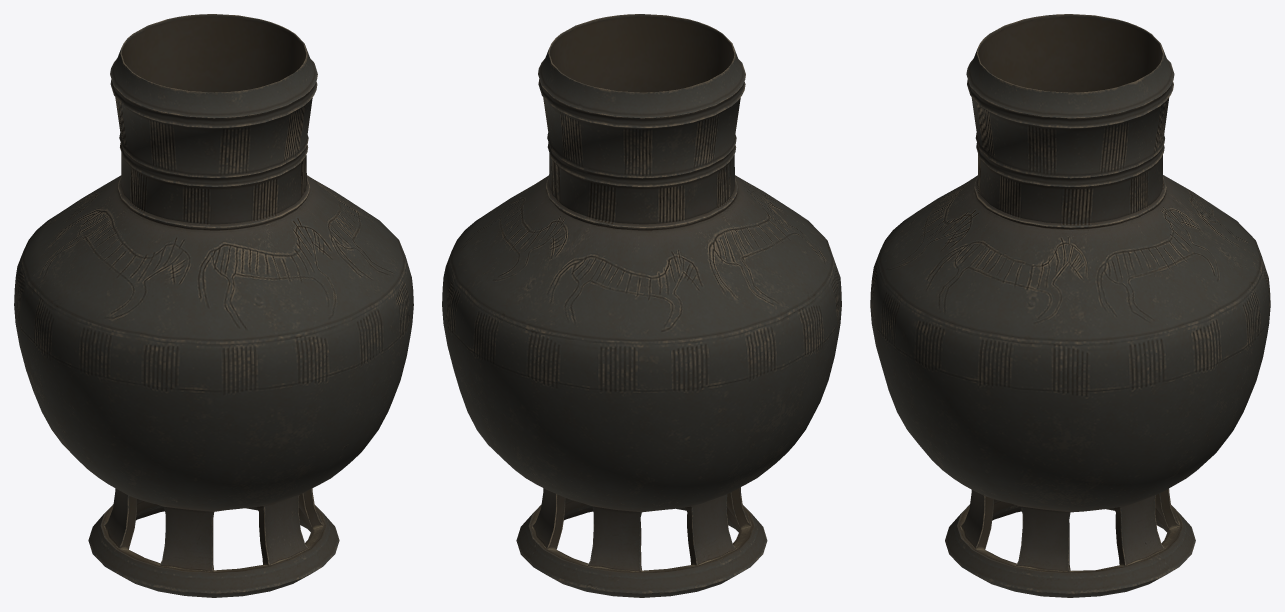
Rendered from Hor_07_3D_02_Pub.glb.
The picture shows the model from 3 angles, left to right: view 1: azimuth 30°, elevation 25°; view 2: azimuth 150°, elevation 25°; view 3: azimuth 270°, elevation 25°; orthographic projection.
Visible parts, largest first — view 1: SM_24FO0012_low_Material #25_0; view 2: SM_24FO0012_low_Material #25_0; view 3: SM_24FO0012_low_Material #25_0.
Boxes of the visible parts, bbox=[...] form: SM_24FO0012_low_Material #25_0: bbox=[14, 14, 413, 597]; SM_24FO0012_low_Material #25_0: bbox=[442, 14, 841, 597]; SM_24FO0012_low_Material #25_0: bbox=[870, 14, 1270, 597].
Size of the model in its own units: 0.3068 by 0.4212 by 0.3067.
Materials: 1 (1 with a texture image).
